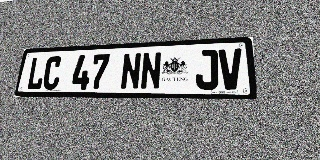4: (71, 55, 92, 90)
7: (89, 54, 110, 90)
C: (42, 56, 63, 90)
J: (196, 49, 218, 90)
L: (26, 57, 47, 90)
N: (140, 52, 162, 90), (120, 53, 142, 90)
V: (218, 48, 243, 90)
